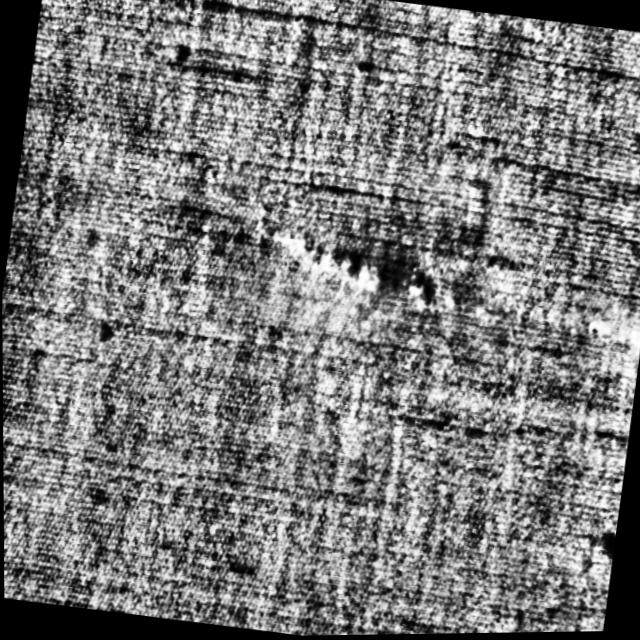Stitch: (260, 219, 471, 332)
